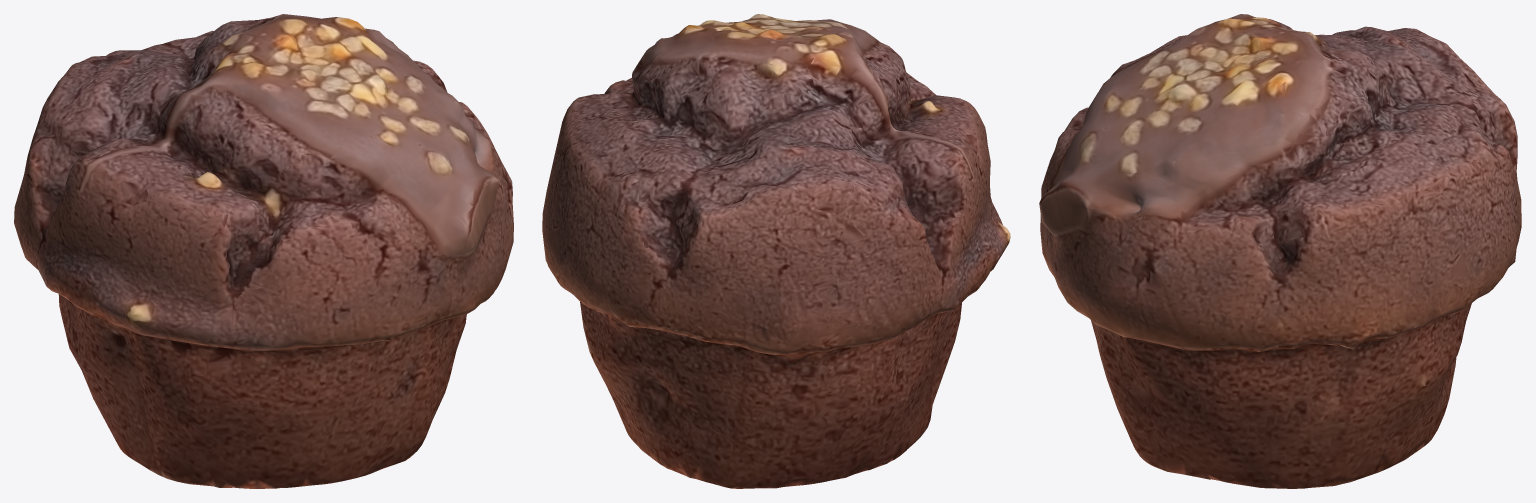
File: muffin_6440.obj
3 renders of one model, left to right at view 1: azimuth 30°, elevation 25°; view 2: azimuth 150°, elevation 25°; view 3: azimuth 270°, elevation 25°, orthographic. The views are drawn at different scales.
Bounding box in the file's own units: 14.21 × 13.01 × 14.4.
Materials: 1 (1 with a texture image).
